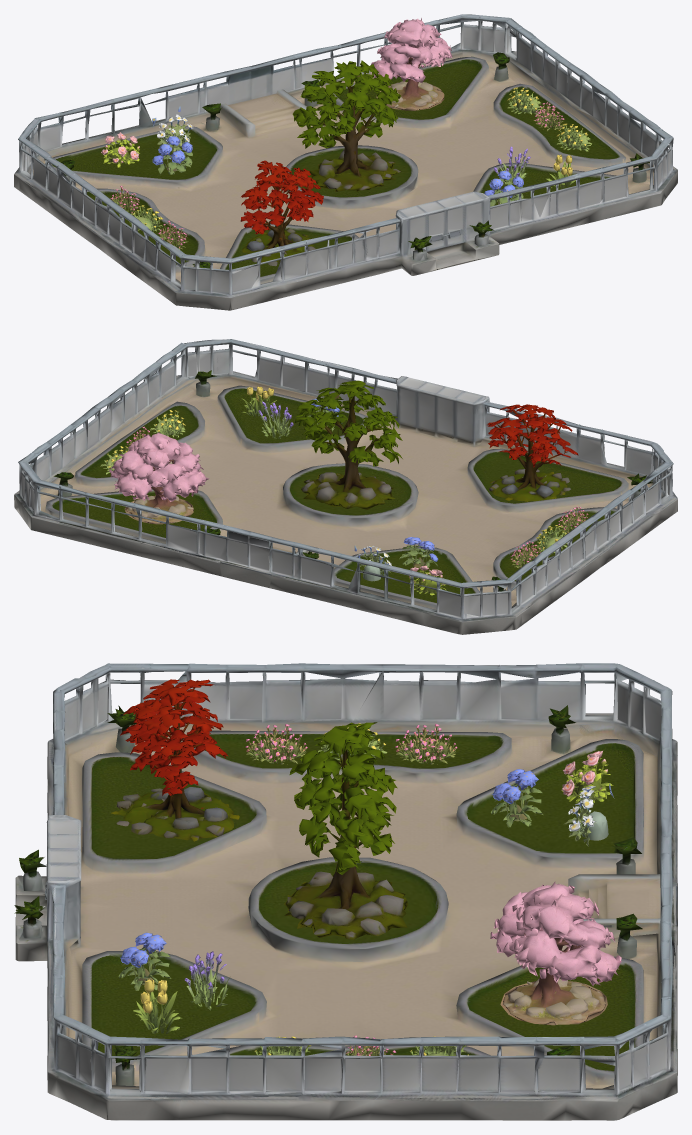
The model's file is garden.glb.
3 views of the same model, one above another, from view 1: azimuth 30°, elevation 25°; view 2: azimuth 150°, elevation 25°; view 3: azimuth 270°, elevation 25° (orthographic). The views are drawn at different scales.
Visible parts, largest first — view 1: tripo_node_73b6fb5b-952e-413f-8486-004d12ae1fc9, tripo_node_0dde67af-841b-4742-82a1-1dec368d5454, tripo_node_fffb096b-6b1d-428a-a7fc-ae48fdb1b699, tripo_node_157c23fd-589c-4140-86e7-4bae7d886abe, tripo_node_85bd9788-cf33-4a5d-bba8-8e7f434e3424.001, tripo_node_1ef6630c-255f-4228-a15b-4d3c292c5a0a, tripo_node_85bd9788-cf33-4a5d-bba8-8e7f434e3424, tripo_node_5d2cf1ea-58d7-48d1-b1b4-5f9bdfaba3bb, tripo_node_d77a6696-cf84-414c-aad7-f3334cb7e40f, tripo_node_d77a6696-cf84-414c-aad7-f3334cb7e40f.001, tripo_node_e4218dc4-635b-4b76-8f8b-d017040ae777, tripo_node_eae4343d-83a2-4ef9-af2d-ad7ab6903b8a (+2 smaller); view 2: tripo_node_73b6fb5b-952e-413f-8486-004d12ae1fc9, tripo_node_0dde67af-841b-4742-82a1-1dec368d5454, tripo_node_157c23fd-589c-4140-86e7-4bae7d886abe, tripo_node_fffb096b-6b1d-428a-a7fc-ae48fdb1b699, tripo_node_85bd9788-cf33-4a5d-bba8-8e7f434e3424.001, tripo_node_eae4343d-83a2-4ef9-af2d-ad7ab6903b8a, tripo_node_5433ed1f-89af-45bf-bb2a-77a288c8f229, tripo_node_5d2cf1ea-58d7-48d1-b1b4-5f9bdfaba3bb, tripo_node_d77a6696-cf84-414c-aad7-f3334cb7e40f, tripo_node_1ef6630c-255f-4228-a15b-4d3c292c5a0a, tripo_node_e4218dc4-635b-4b76-8f8b-d017040ae777.001, tripo_node_e4218dc4-635b-4b76-8f8b-d017040ae777.002 (+1 smaller); view 3: tripo_node_73b6fb5b-952e-413f-8486-004d12ae1fc9, tripo_node_0dde67af-841b-4742-82a1-1dec368d5454, tripo_node_157c23fd-589c-4140-86e7-4bae7d886abe, tripo_node_fffb096b-6b1d-428a-a7fc-ae48fdb1b699, tripo_node_85bd9788-cf33-4a5d-bba8-8e7f434e3424.001, tripo_node_85bd9788-cf33-4a5d-bba8-8e7f434e3424, tripo_node_1ef6630c-255f-4228-a15b-4d3c292c5a0a, tripo_node_5433ed1f-89af-45bf-bb2a-77a288c8f229, tripo_node_e4218dc4-635b-4b76-8f8b-d017040ae777.001, tripo_node_e4218dc4-635b-4b76-8f8b-d017040ae777.002, tripo_node_5d2cf1ea-58d7-48d1-b1b4-5f9bdfaba3bb, tripo_node_eae4343d-83a2-4ef9-af2d-ad7ab6903b8a.
Part boxes in pixels (box(x1,y1,x2,y2)): tripo_node_73b6fb5b-952e-413f-8486-004d12ae1fc9: box(14, 14, 677, 310); tripo_node_0dde67af-841b-4742-82a1-1dec368d5454: box(292, 60, 401, 191); tripo_node_fffb096b-6b1d-428a-a7fc-ae48fdb1b699: box(240, 160, 323, 266); tripo_node_157c23fd-589c-4140-86e7-4bae7d886abe: box(370, 18, 452, 110); tripo_node_85bd9788-cf33-4a5d-bba8-8e7f434e3424.001: box(152, 136, 192, 174); tripo_node_1ef6630c-255f-4228-a15b-4d3c292c5a0a: box(101, 132, 139, 167); tripo_node_85bd9788-cf33-4a5d-bba8-8e7f434e3424: box(484, 170, 523, 206); tripo_node_5d2cf1ea-58d7-48d1-b1b4-5f9bdfaba3bb: box(152, 106, 192, 151); tripo_node_d77a6696-cf84-414c-aad7-f3334cb7e40f: box(556, 123, 591, 151); tripo_node_d77a6696-cf84-414c-aad7-f3334cb7e40f.001: box(507, 87, 542, 114); tripo_node_e4218dc4-635b-4b76-8f8b-d017040ae777: box(533, 102, 565, 131); tripo_node_eae4343d-83a2-4ef9-af2d-ad7ab6903b8a: box(494, 146, 530, 185); tripo_node_73b6fb5b-952e-413f-8486-004d12ae1fc9: box(14, 339, 677, 634); tripo_node_0dde67af-841b-4742-82a1-1dec368d5454: box(294, 380, 402, 509); tripo_node_157c23fd-589c-4140-86e7-4bae7d886abe: box(109, 432, 209, 524); tripo_node_fffb096b-6b1d-428a-a7fc-ae48fdb1b699: box(487, 404, 578, 501); tripo_node_85bd9788-cf33-4a5d-bba8-8e7f434e3424.001: box(399, 537, 438, 570); tripo_node_eae4343d-83a2-4ef9-af2d-ad7ab6903b8a: box(258, 401, 293, 438); tripo_node_5433ed1f-89af-45bf-bb2a-77a288c8f229: box(241, 386, 277, 418); tripo_node_5d2cf1ea-58d7-48d1-b1b4-5f9bdfaba3bb: box(354, 546, 391, 581); tripo_node_d77a6696-cf84-414c-aad7-f3334cb7e40f: box(150, 410, 185, 437); tripo_node_1ef6630c-255f-4228-a15b-4d3c292c5a0a: box(409, 565, 446, 595); tripo_node_e4218dc4-635b-4b76-8f8b-d017040ae777.001: box(510, 541, 540, 568); tripo_node_e4218dc4-635b-4b76-8f8b-d017040ae777.002: box(558, 506, 588, 533); tripo_node_73b6fb5b-952e-413f-8486-004d12ae1fc9: box(14, 663, 677, 1120); tripo_node_0dde67af-841b-4742-82a1-1dec368d5454: box(284, 722, 408, 939); tripo_node_157c23fd-589c-4140-86e7-4bae7d886abe: box(490, 881, 621, 1025); tripo_node_fffb096b-6b1d-428a-a7fc-ae48fdb1b699: box(111, 679, 239, 841); tripo_node_85bd9788-cf33-4a5d-bba8-8e7f434e3424.001: box(491, 769, 543, 827); tripo_node_85bd9788-cf33-4a5d-bba8-8e7f434e3424: box(118, 932, 171, 990); tripo_node_1ef6630c-255f-4228-a15b-4d3c292c5a0a: box(561, 751, 613, 803); tripo_node_5433ed1f-89af-45bf-bb2a-77a288c8f229: box(133, 979, 182, 1033); tripo_node_e4218dc4-635b-4b76-8f8b-d017040ae777.001: box(395, 723, 457, 764); tripo_node_e4218dc4-635b-4b76-8f8b-d017040ae777.002: box(245, 724, 307, 764); tripo_node_5d2cf1ea-58d7-48d1-b1b4-5f9bdfaba3bb: box(563, 783, 614, 846); tripo_node_eae4343d-83a2-4ef9-af2d-ad7ab6903b8a: box(185, 951, 229, 1010).
Bounding box in the file's own units: 23.54 × 5.58 × 17.08.
11 materials, 11 textured.
